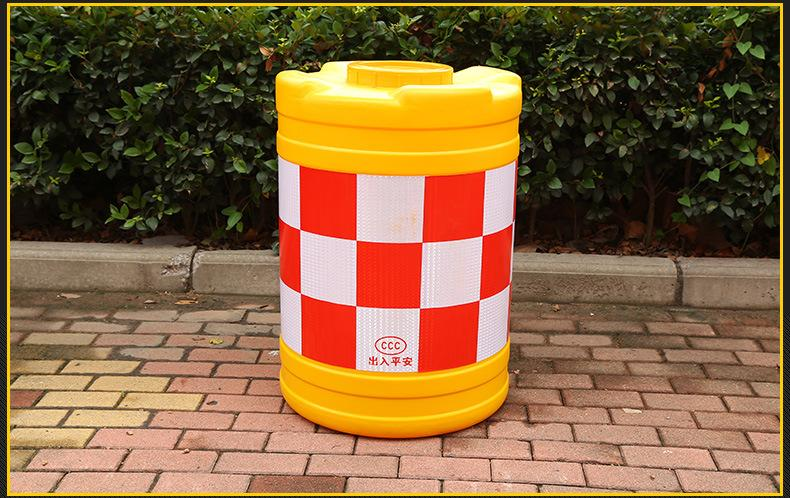sign: (256, 57, 536, 441)
